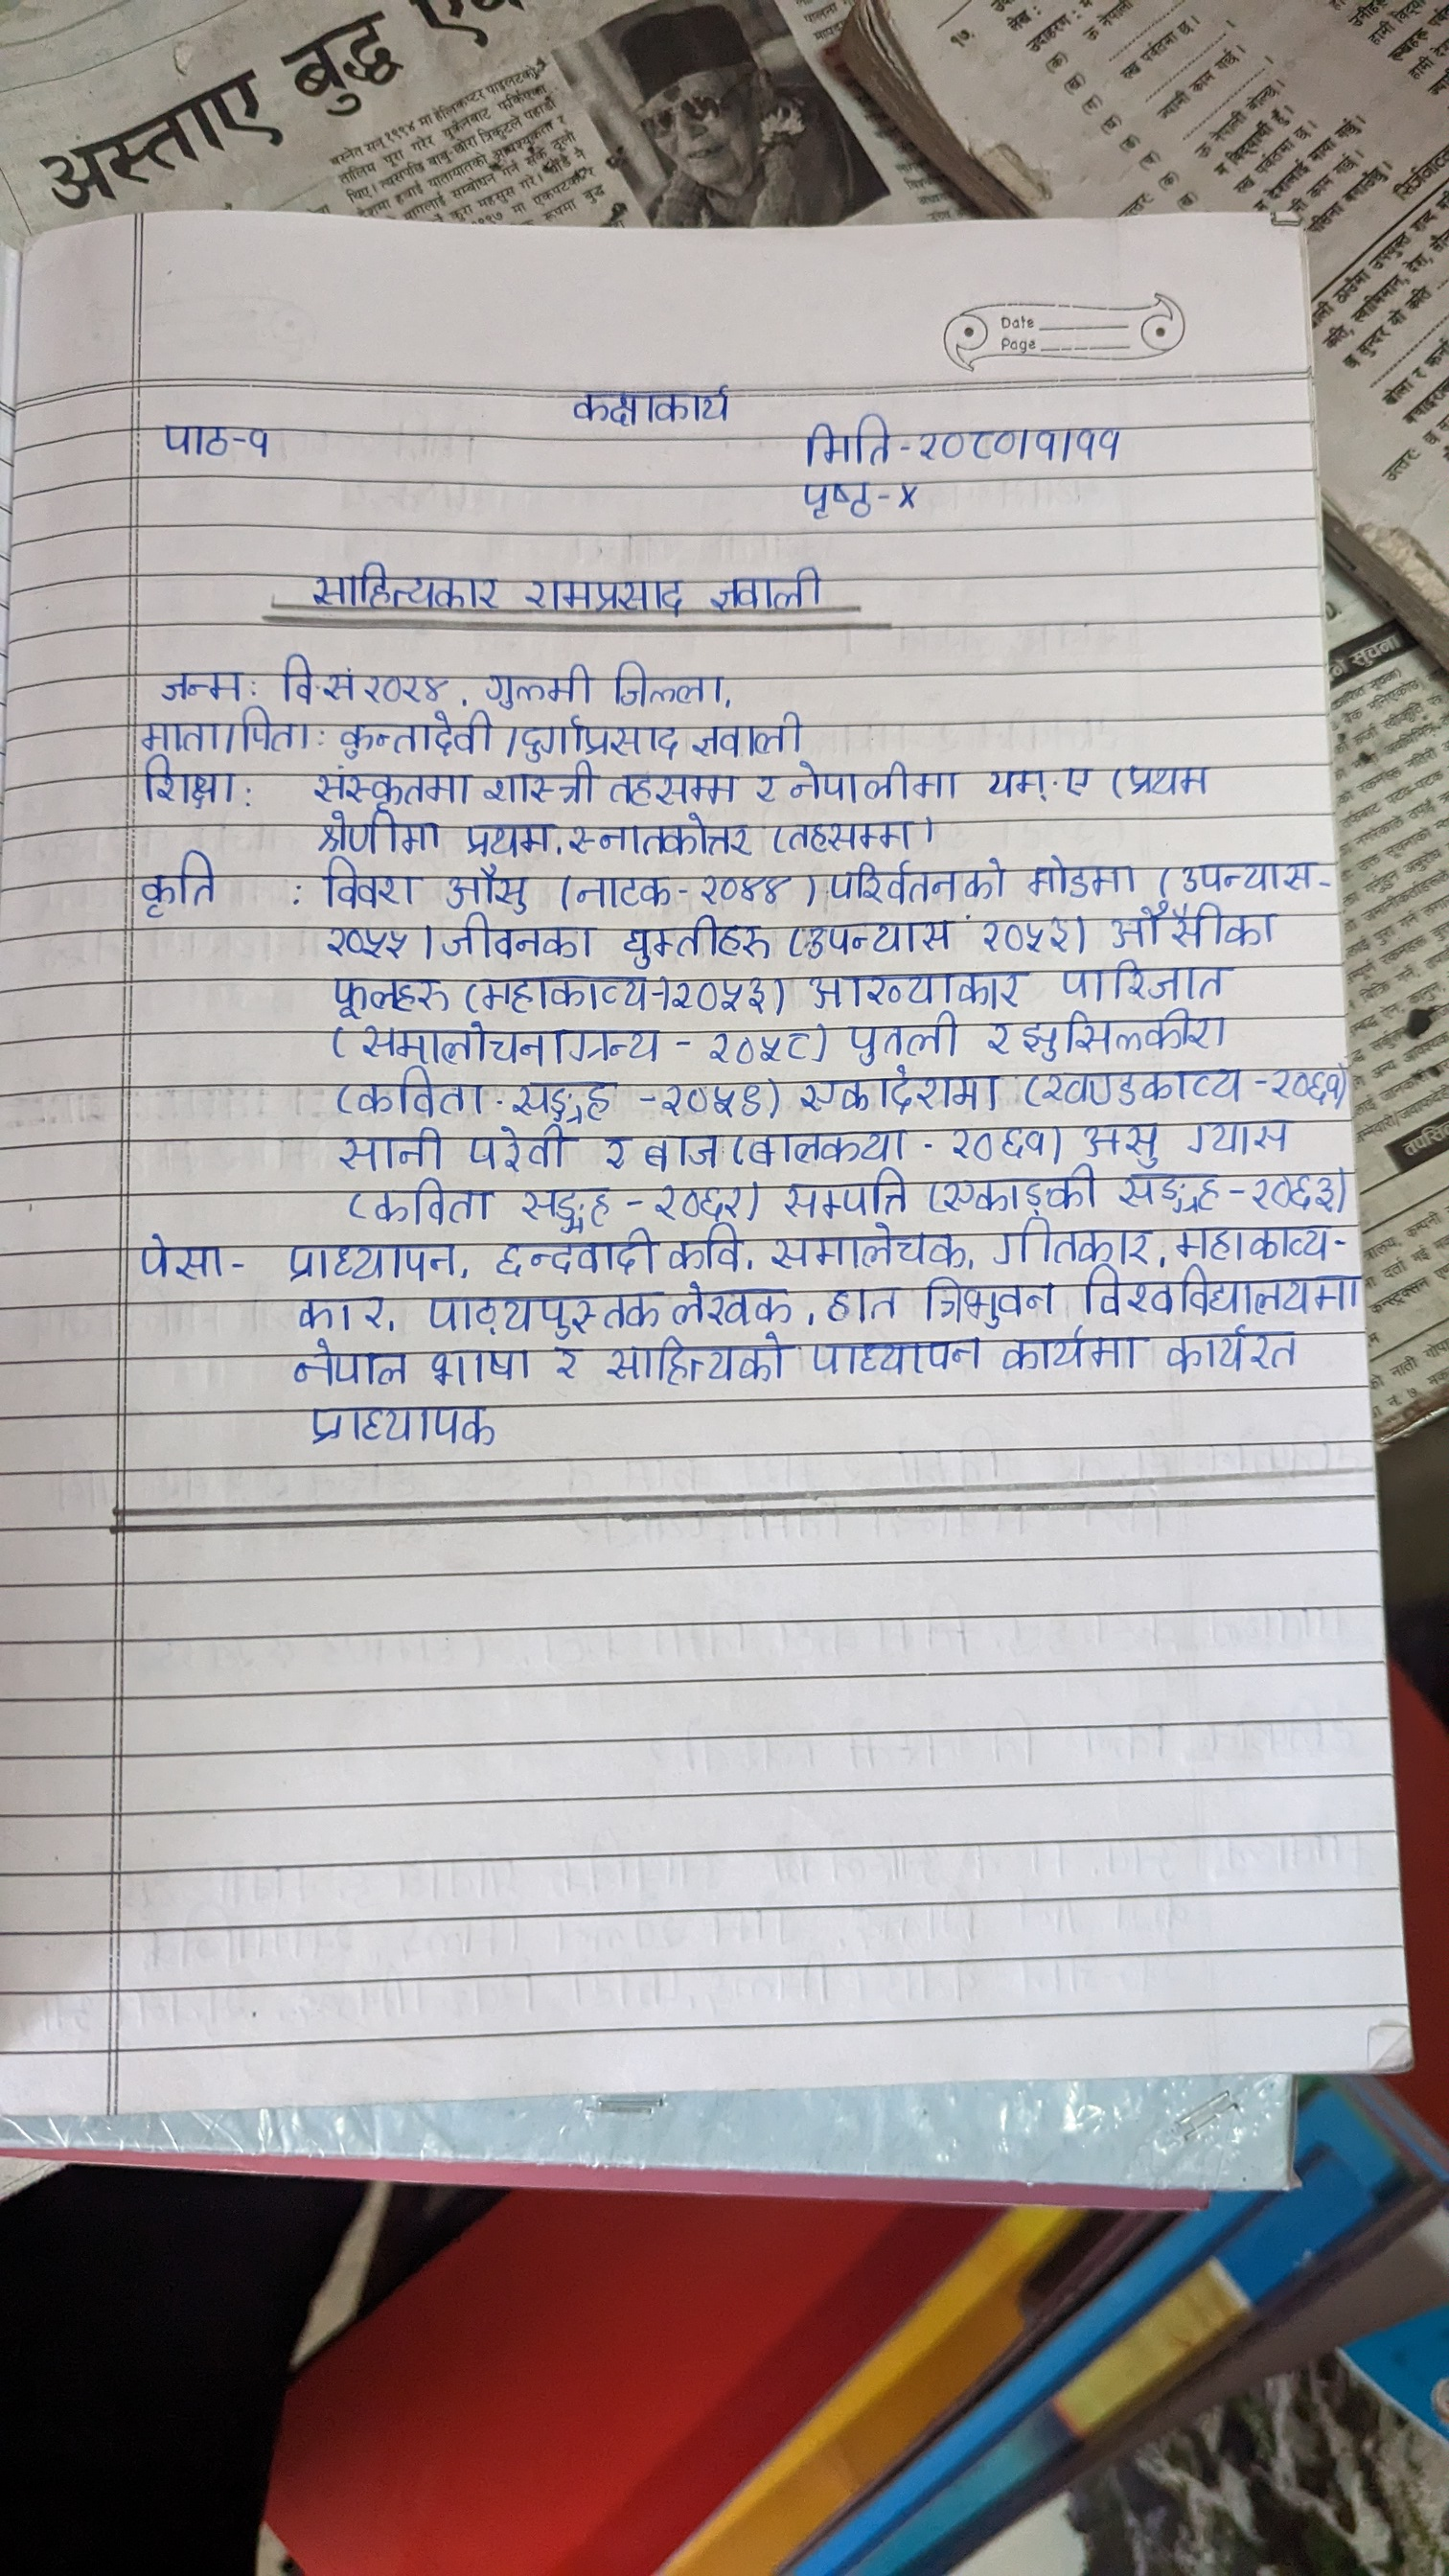text: (357, 1021, 663, 1067), (541, 368, 754, 433), (294, 550, 501, 612), (1081, 1269, 1359, 1315), (423, 1290, 662, 1334), (791, 1069, 1007, 1116), (303, 1399, 501, 1451), (766, 1224, 971, 1272), (607, 1338, 796, 1389), (803, 970, 1028, 1010), (513, 566, 688, 616), (1023, 1014, 1235, 1054), (281, 1238, 462, 1286), (706, 557, 846, 617), (809, 1336, 991, 1382), (623, 916, 780, 970), (1168, 1217, 1332, 1267), (938, 1168, 1100, 1217), (1039, 1067, 1246, 1106), (568, 814, 757, 856), (830, 858, 1005, 902), (1106, 904, 1274, 950), (129, 711, 310, 754), (488, 1233, 653, 1279), (1056, 959, 1233, 1001), (1003, 1329, 1145, 1382), (340, 709, 495, 757), (478, 971, 649, 1014), (520, 713, 685, 757), (916, 1274, 1058, 1325), (989, 1223, 1152, 1267), (1168, 1323, 1299, 1378), (791, 763, 961, 803), (311, 764, 471, 807), (129, 849, 225, 918), (780, 1168, 911, 1217), (803, 918, 955, 961), (442, 918, 600, 959), (366, 1180, 502, 1226), (1177, 853, 1318, 897), (308, 810, 442, 856), (793, 410, 901, 467), (331, 1123, 448, 1175), (356, 1069, 485, 1115), (283, 1341, 412, 1387), (1021, 851, 1136, 901), (609, 660, 727, 708), (846, 1014, 959, 1063), (318, 860, 425, 911), (909, 418, 1017, 467), (789, 814, 915, 856), (129, 1235, 241, 1283), (609, 766, 738, 807), (694, 713, 810, 757), (1123, 752, 1217, 807), (655, 1079, 770, 1123), (747, 1132, 906, 1164), (327, 975, 451, 1016), (479, 662, 593, 706), (515, 1182, 616, 1231), (674, 1281, 789, 1323), (511, 1076, 616, 1122), (143, 409, 230, 464), (483, 764, 600, 805), (140, 757, 235, 807), (573, 867, 674, 913), (469, 1125, 568, 1171), (294, 1292, 391, 1338), (444, 865, 534, 915), (672, 970, 771, 1014), (1116, 1169, 1217, 1212), (692, 869, 798, 908), (1185, 1118, 1295, 1155), (458, 819, 554, 862), (973, 915, 1072, 955), (430, 1343, 527, 1384), (1079, 1115, 1161, 1162), (704, 1026, 814, 1062), (948, 1125, 1054, 1161), (1072, 409, 1136, 467), (239, 407, 294, 474), (1247, 1169, 1334, 1212), (653, 1180, 747, 1219), (796, 478, 878, 522), (823, 1283, 904, 1327), (324, 922, 416, 961), (980, 755, 1051, 805), (363, 663, 448, 704), (157, 669, 246, 708), (1267, 1060, 1339, 1106), (669, 1226, 741, 1270), (646, 1131, 720, 1171), (281, 653, 318, 711), (543, 1343, 591, 1385), (1030, 410, 1062, 467), (326, 658, 359, 708), (1063, 757, 1095, 803), (750, 770, 780, 810), (600, 1136, 633, 1171), (980, 1019, 1010, 1056)
